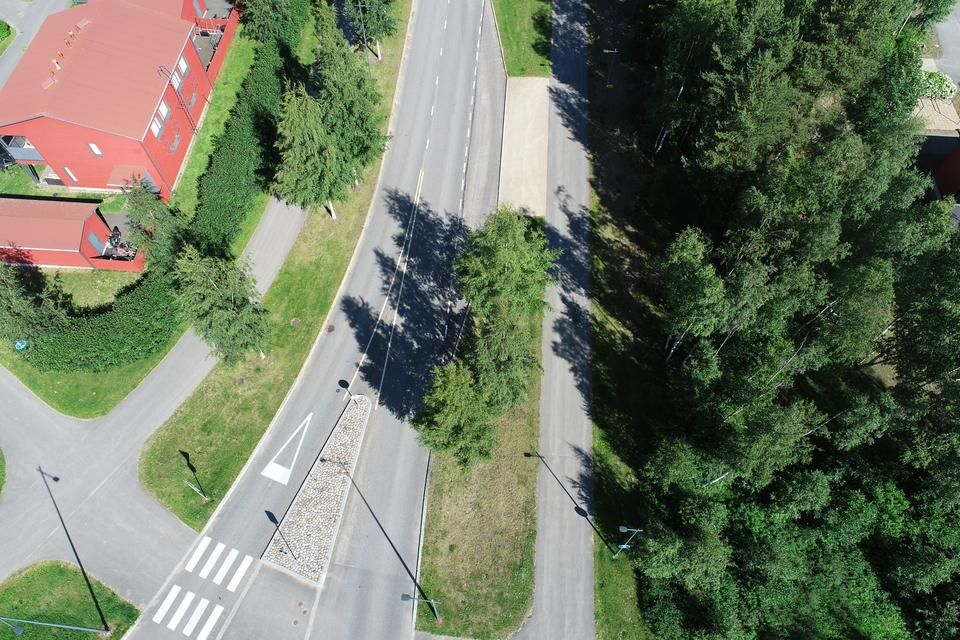intersection: (69, 501, 518, 640)
